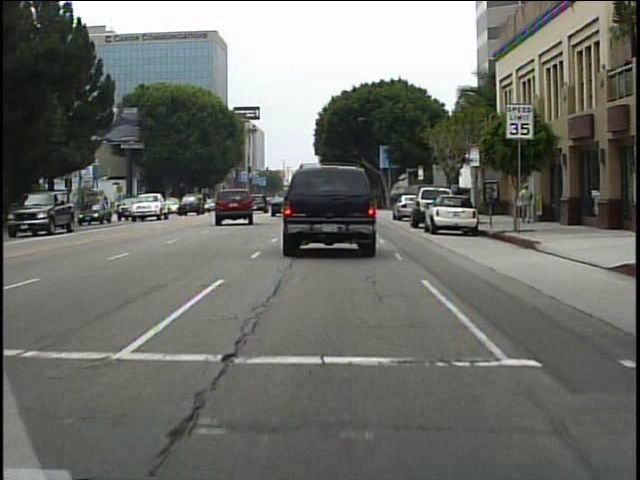person: (517, 181, 537, 228), (450, 183, 466, 220)
